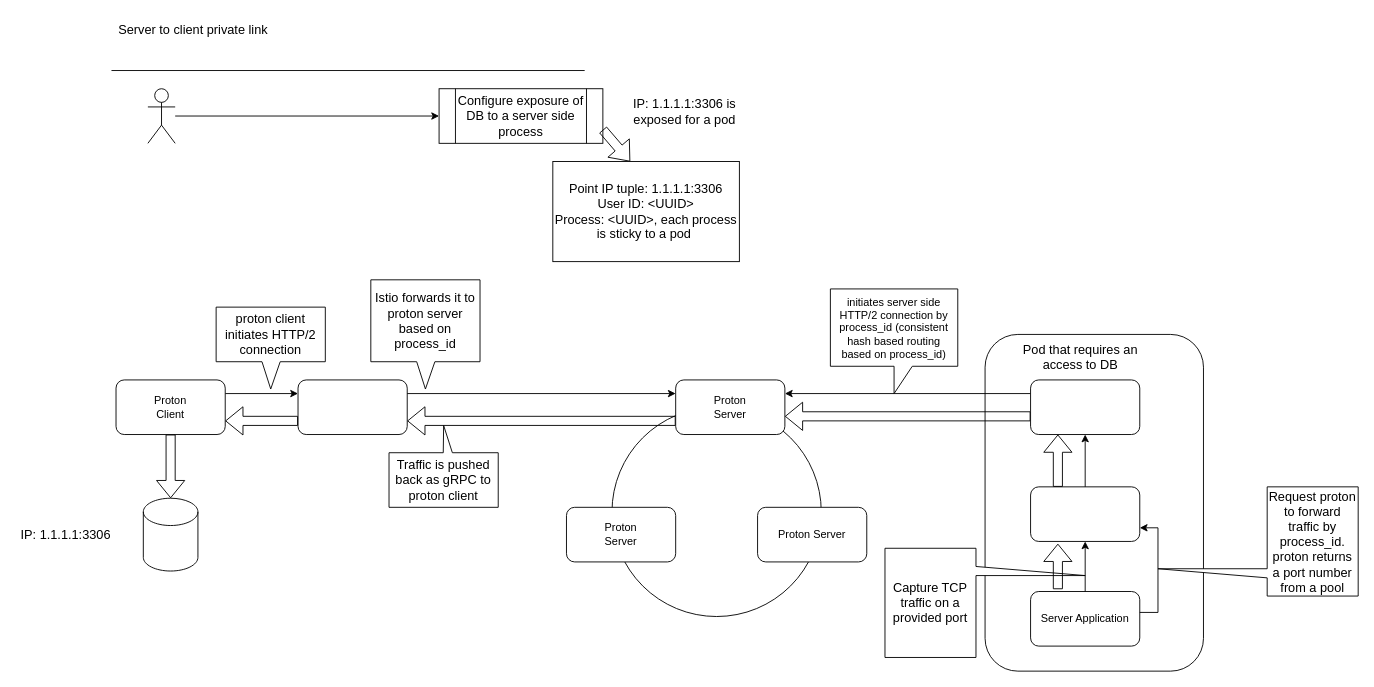
This 1374x687 diagram has some shape labels left out. Here are the shapes that lost their labels. From the top down, the box of each, then its label:
(147, 88, 175, 143): User
(297, 379, 407, 435): Istio ingress gateway
(1030, 379, 1140, 435): Istio Sidecar
(611, 406, 821, 617): Ring
(1030, 486, 1140, 541): Proton sidecar
